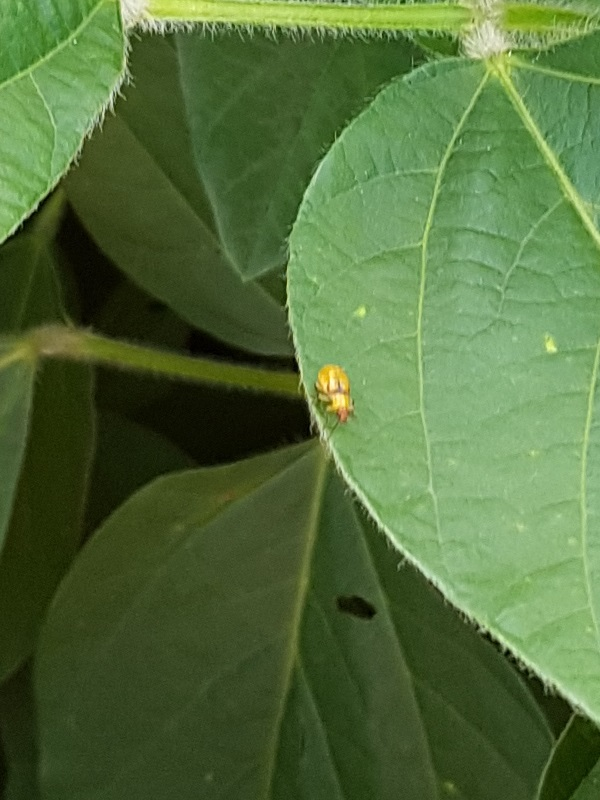Diabrotica_speciosa: (297, 352, 378, 448)
